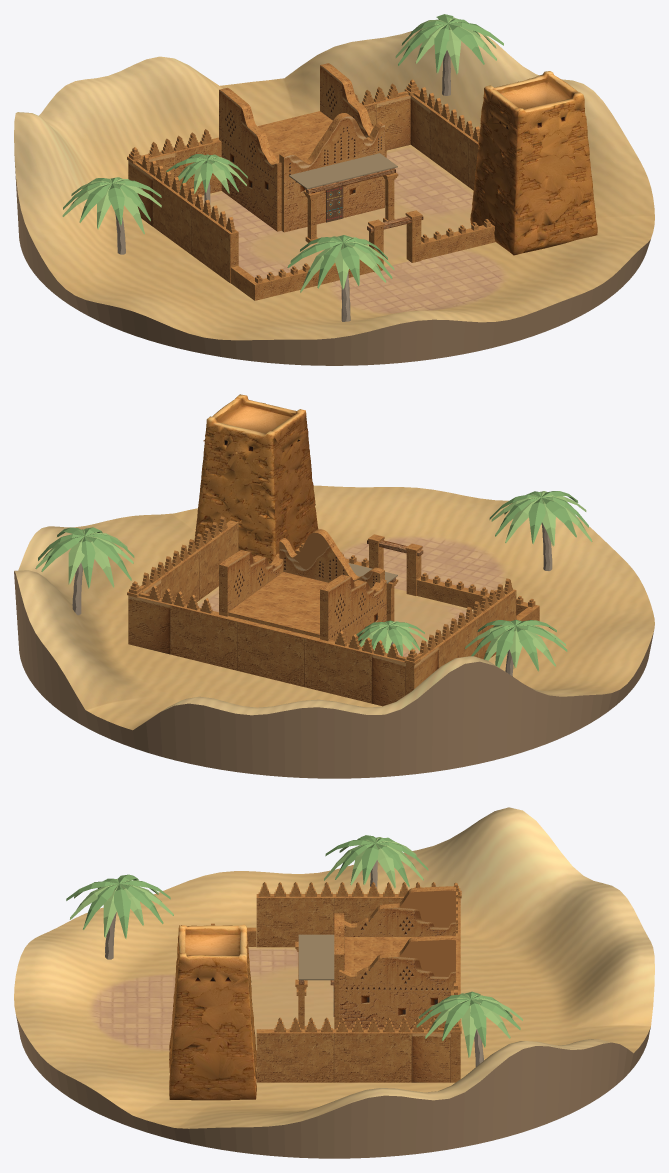
The picture shows the model from 3 angles, top to bottom: view 1: azimuth 30°, elevation 25°; view 2: azimuth 150°, elevation 25°; view 3: azimuth 270°, elevation 25°; orthographic projection.
Parts seen in each view (by area): view 1: Ground, Tower.001, Plinth, FacadeGable.001, FacadeSteps.001, Wall.001, Roof, Wall.003, Wall.004, FacadeSteps.002, PorchRoof, LowWall (+9 smaller); view 2: Ground, Plinth, Tower.001, Roof, Wall.006, Wall.007, Wall.005, FacadeSteps.001, FacadeGable.001, FacadeSteps.002, CornerA.002, Wall.002 (+7 smaller); view 3: Ground, Plinth, Tower.001, FacadeSteps.002, Wall.002, Wall.004, FacadeSteps.001, Wall.001, CornerB.002, PorchRoof, Roof, Wall.003 (+2 smaller).
Boxes of the visible parts, <box> form: Ground: <box>14,28,654,340</box>; Tower.001: <box>470,71,597,255</box>; Plinth: <box>14,161,650,365</box>; FacadeGable.001: <box>279,113,384,232</box>; FacadeSteps.001: <box>219,87,281,231</box>; Wall.001: <box>191,205,238,283</box>; Roof: <box>258,111,332,161</box>; Wall.003: <box>152,176,194,254</box>; Wall.004: <box>430,109,472,186</box>; FacadeSteps.002: <box>320,63,386,204</box>; PorchRoof: <box>289,153,397,189</box>; LowWall: <box>250,259,373,300</box>; Ground: <box>14,485,654,730</box>; Plinth: <box>14,571,653,778</box>; Tower.001: <box>194,394,318,563</box>; Roof: <box>228,572,328,637</box>; Wall.006: <box>237,619,308,687</box>; Wall.007: <box>170,603,240,670</box>; Wall.005: <box>305,635,373,703</box>; FacadeSteps.001: <box>320,574,386,647</box>; FacadeGable.001: <box>279,529,384,588</box>; FacadeSteps.002: <box>219,550,283,616</box>; CornerA.002: <box>128,595,171,654</box>; Wall.002: <box>196,520,238,599</box>; Ground: <box>14,807,654,1128</box>; Plinth: <box>16,1015,650,1158</box>; Tower.001: <box>169,924,256,1100</box>; FacadeSteps.002: <box>339,935,455,1029</box>; Wall.002: <box>256,1029,334,1082</box>; Wall.004: <box>334,1029,412,1082</box>; FacadeSteps.001: <box>344,886,455,969</box>; Wall.001: <box>256,894,334,947</box>; CornerB.002: <box>412,1029,450,1082</box>; PorchRoof: <box>298,934,334,980</box>; Roof: <box>344,937,415,972</box>; Wall.003: <box>334,894,403,923</box>.
Size of the model in its own units: 33 by 8.7 by 33.
Materials: 24 (18 with a texture image).
